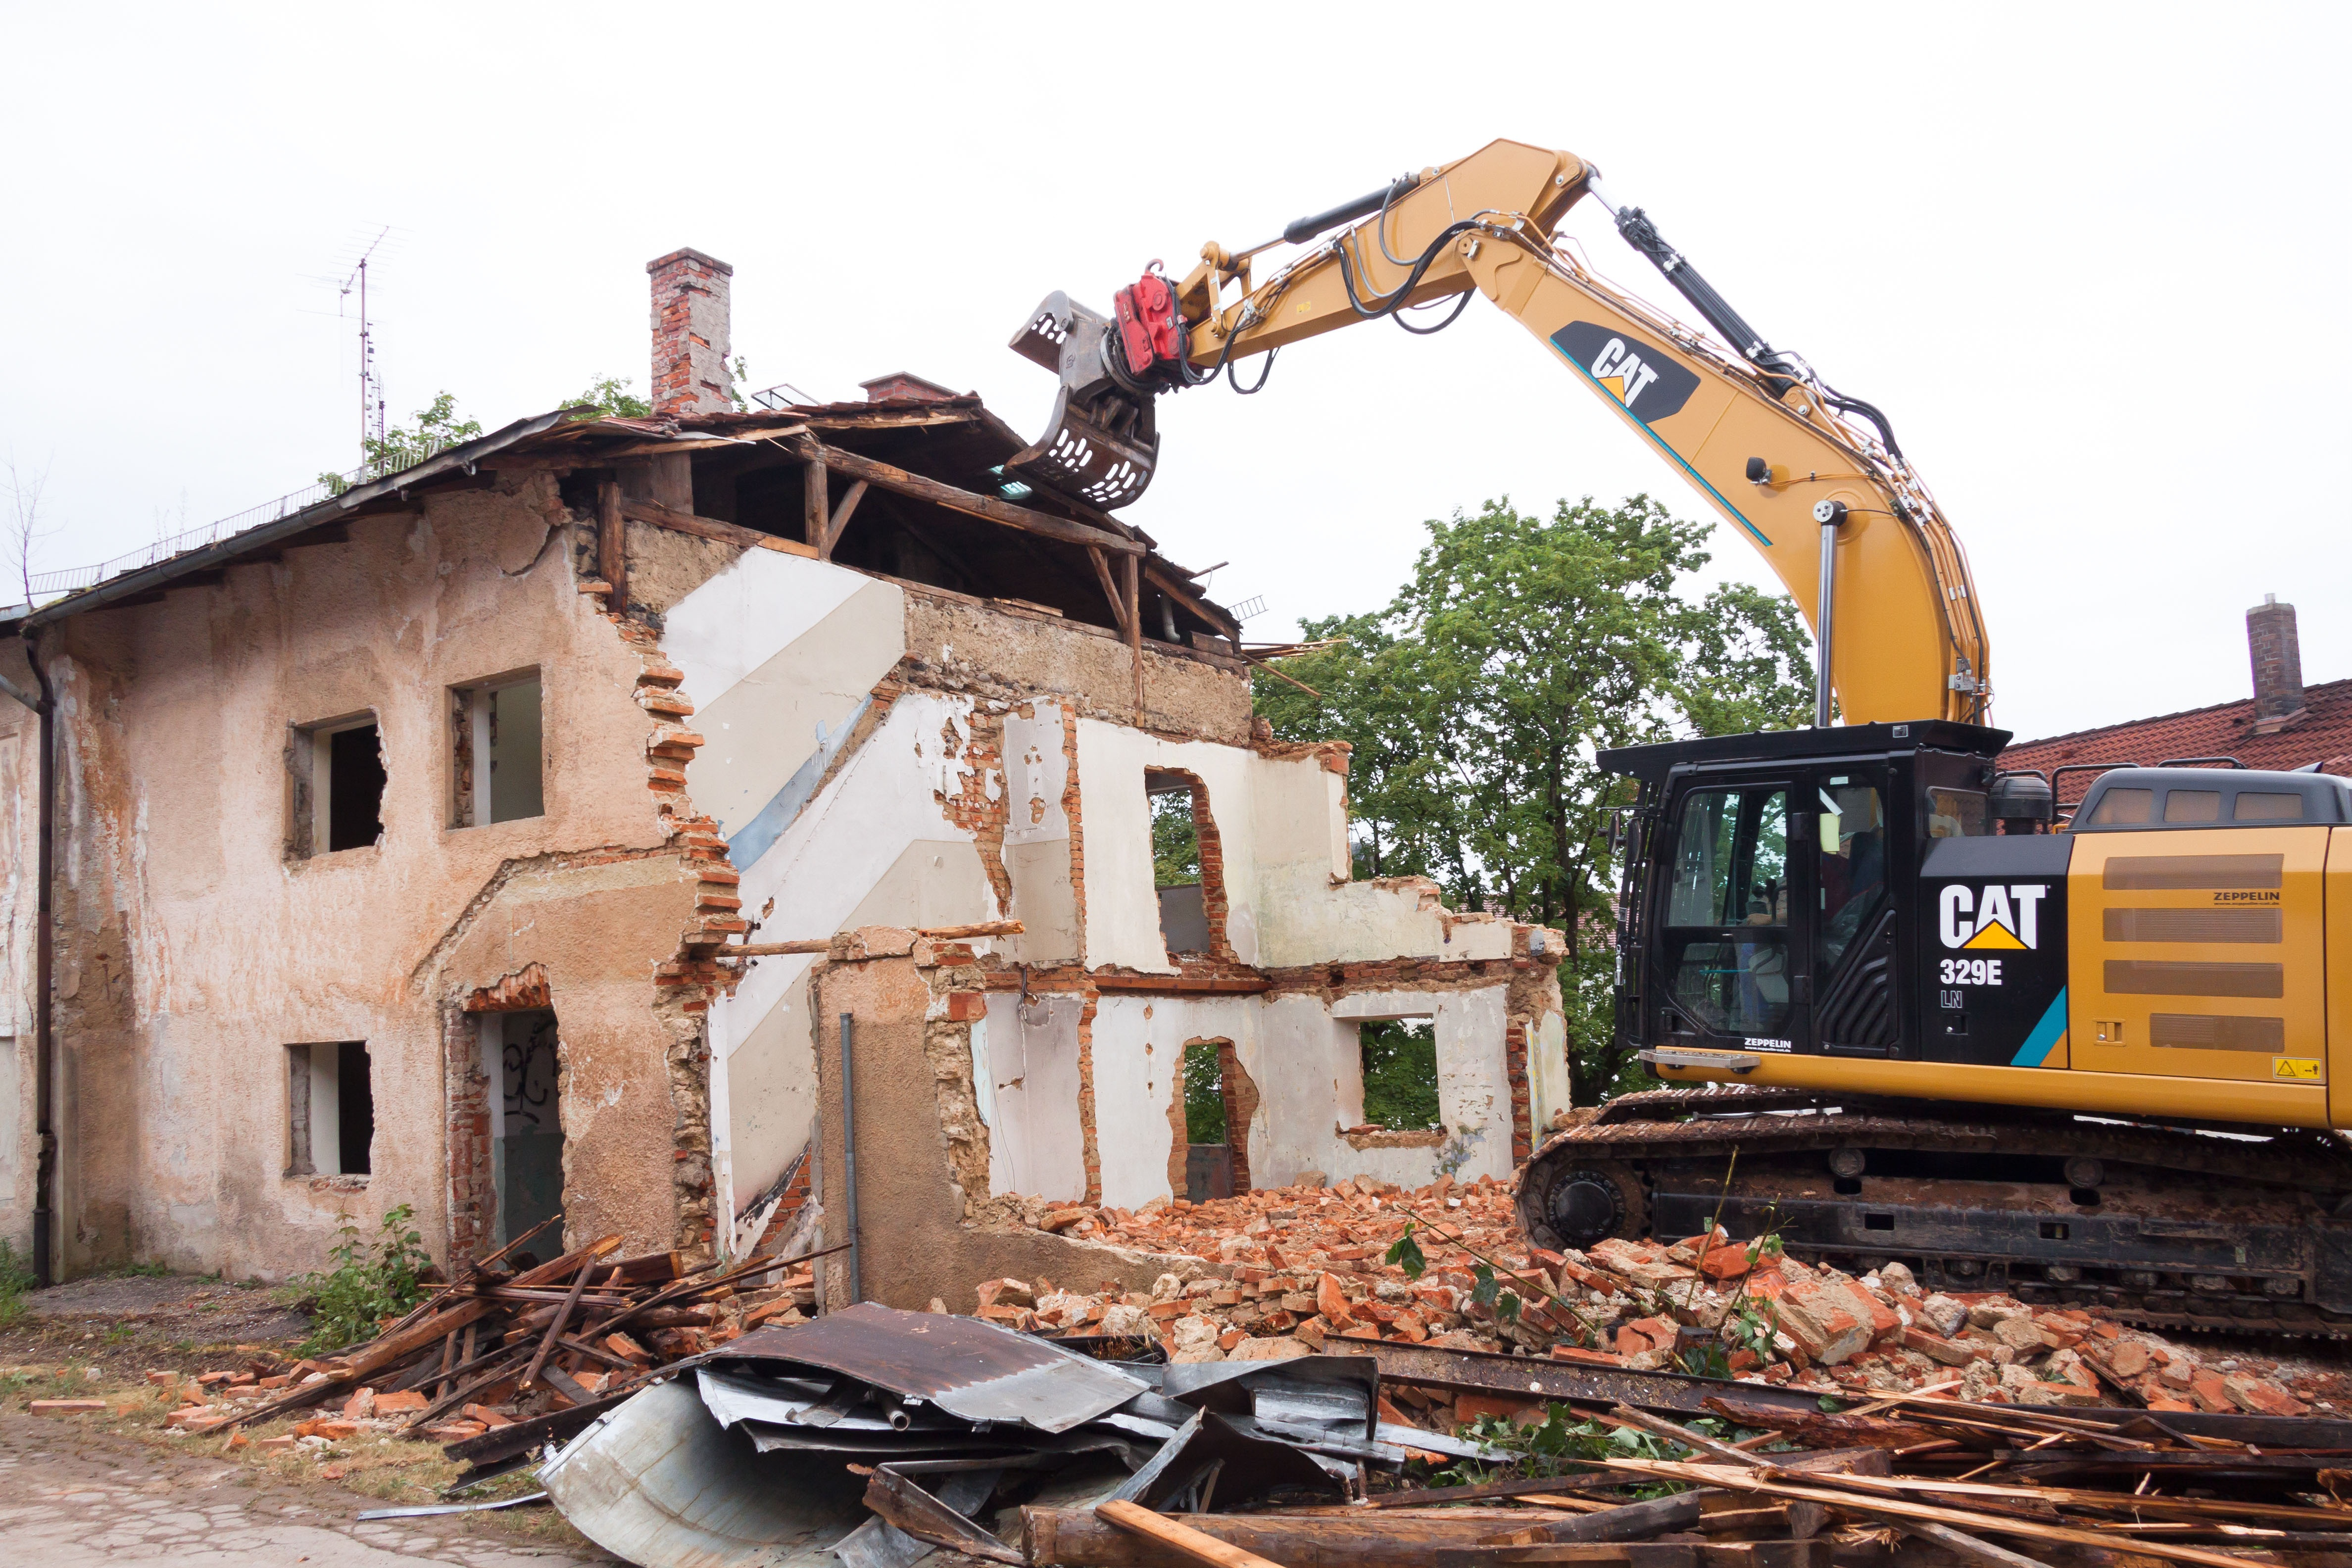excavator: (1010, 136, 2352, 1389)
